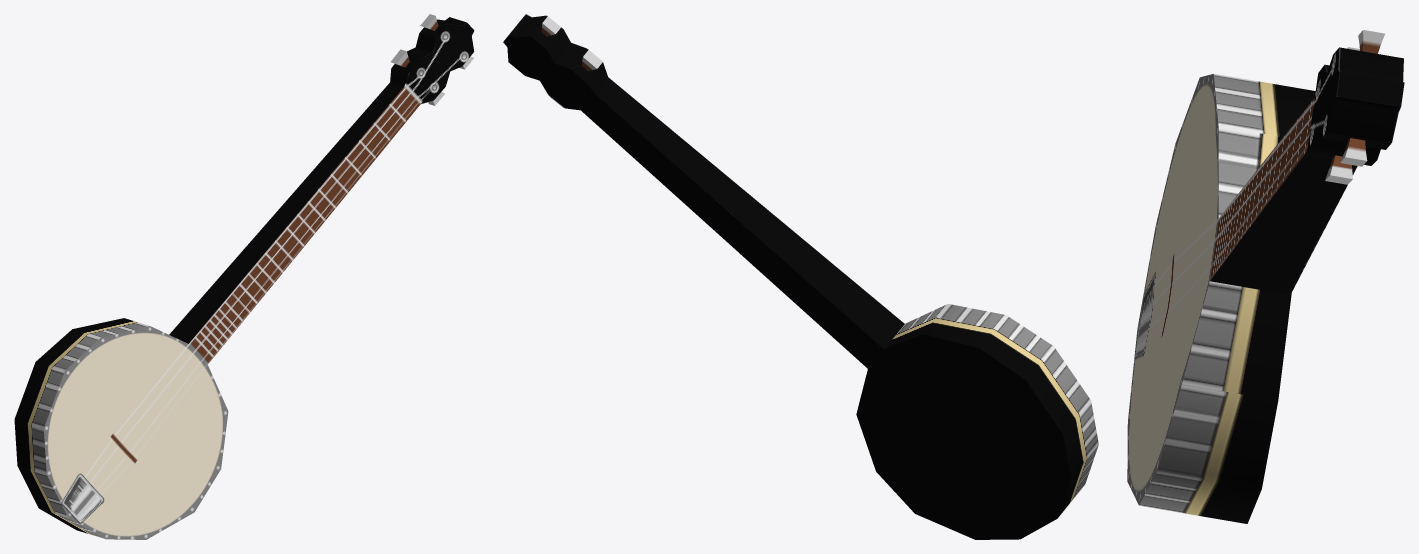
Rendered from Guitarra1_000013.obj.
The picture shows the model from 3 angles, left to right: view 1: azimuth 30°, elevation 25°; view 2: azimuth 150°, elevation 25°; view 3: azimuth 270°, elevation 25°; orthographic projection. The views are drawn at different scales.
Parts seen in each view (by area): view 1: g1_pCube6; view 2: g1_pCube6; view 3: g1_pCube6.
Part boxes in pixels (x1,y1,x2,y2): g1_pCube6: (14, 14, 474, 539); g1_pCube6: (503, 14, 1098, 539); g1_pCube6: (1127, 30, 1404, 523).
Bounding box in the file's own units: 11.28 × 9.17 × 2.84.
